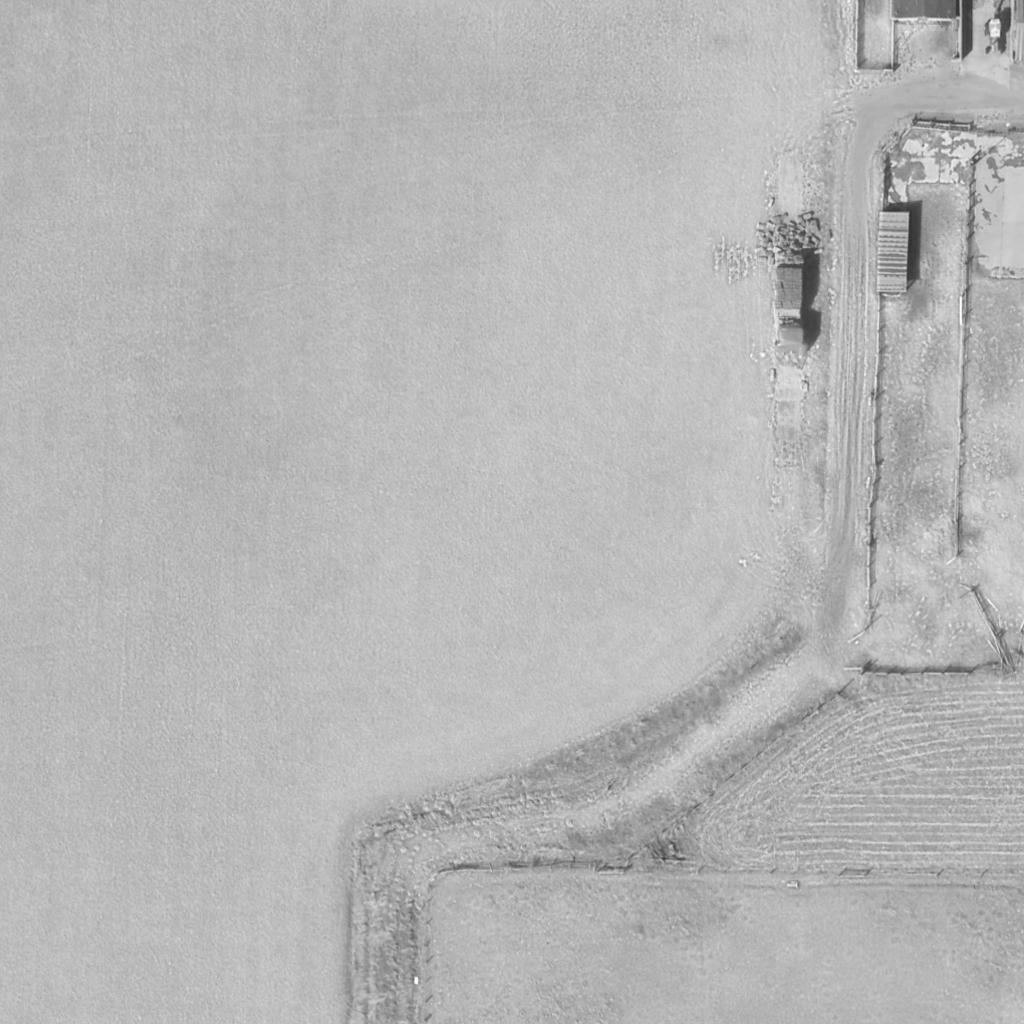vehicle: (984, 18, 1008, 56)
